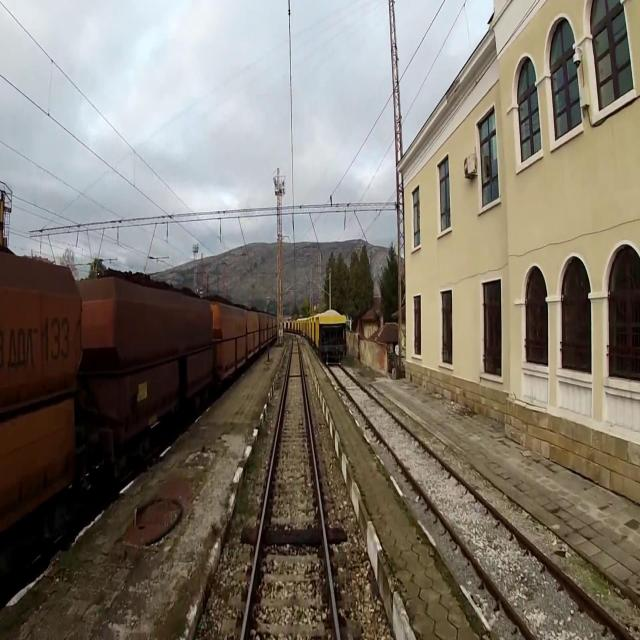rail-track: (330, 366, 623, 639), (244, 338, 336, 639)
